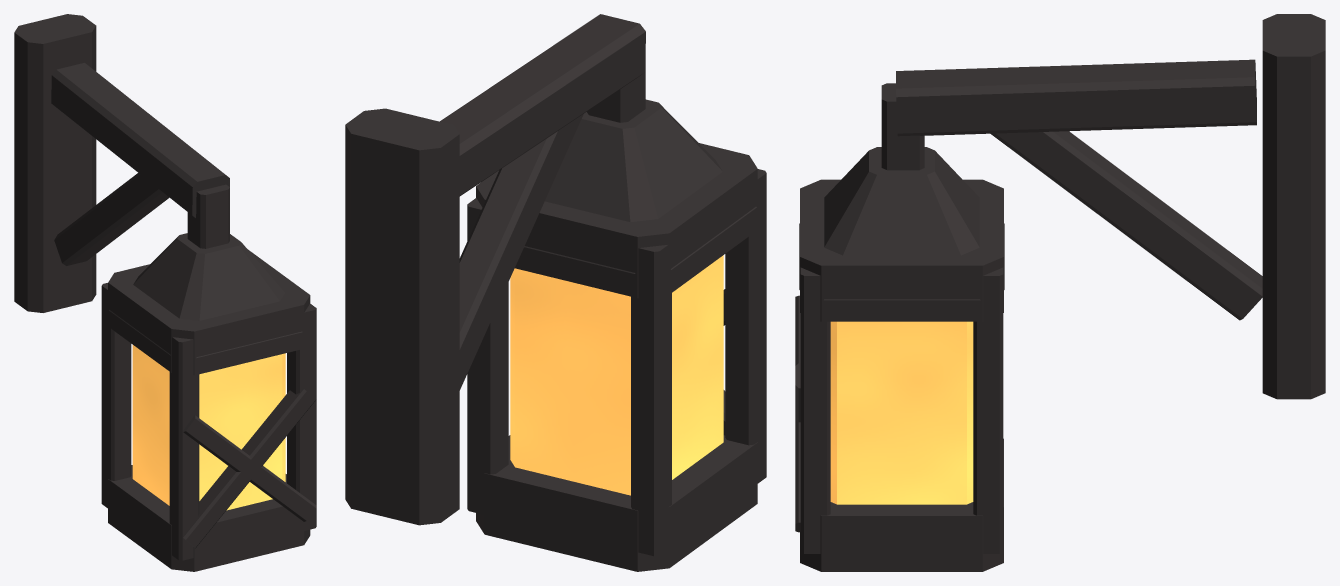
Rendered from lantern.glb.
3 views of the same model, side by side, from view 1: azimuth 30°, elevation 25°; view 2: azimuth 150°, elevation 25°; view 3: azimuth 270°, elevation 25° (orthographic). The views are drawn at different scales.
Visible parts, largest first — view 1: Lantern; view 2: Lantern; view 3: Lantern.
Boxes of the visible parts, x1,y1,x2,y2 form: Lantern: [14, 14, 316, 571]; Lantern: [345, 14, 766, 571]; Lantern: [795, 14, 1325, 571].
Bounding box in the file's own units: 0.326 × 0.864 × 0.841.
2 materials, 1 textured.
